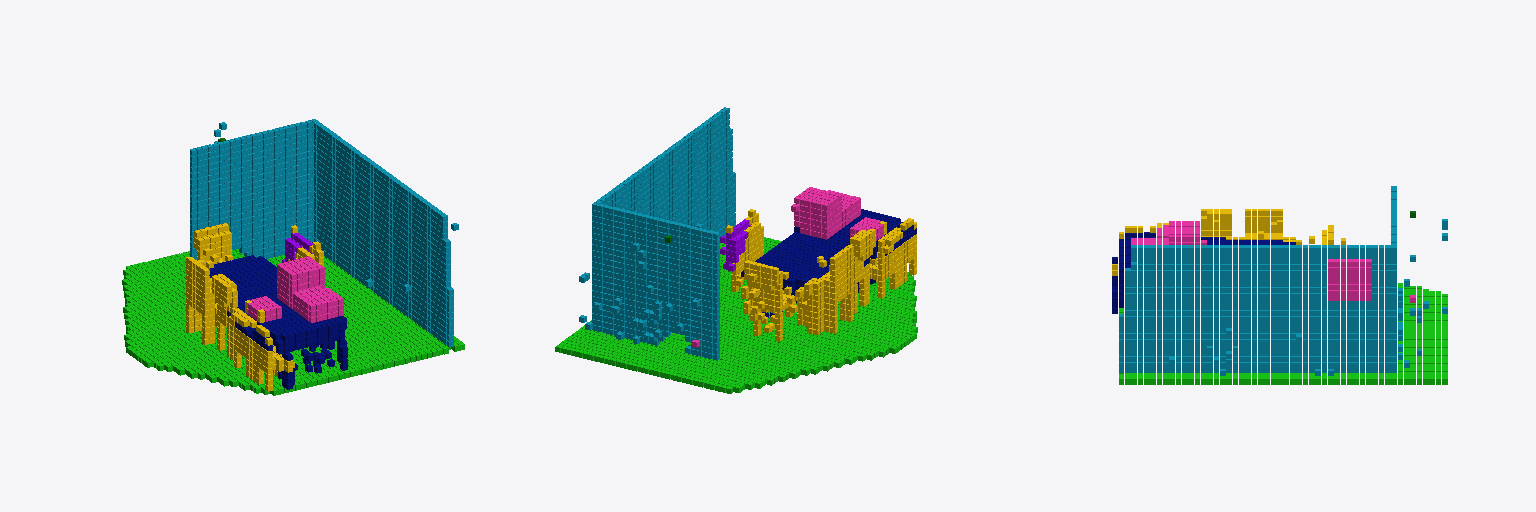
File: ResUNet_NYUCAD_k3_depth_f3_pred_NYU1385_0000_obj.obj
3 views of the same model, side by side, from view 1: azimuth 30°, elevation 25°; view 2: azimuth 150°, elevation 25°; view 3: azimuth 270°, elevation 25° (orthographic).
Parts seen in each view (by area): view 1: Cube; view 2: Cube; view 3: Cube.
Boxes of the visible parts, x1,y1,x2,y2 form: Cube: [122, 119, 464, 395]; Cube: [555, 107, 917, 393]; Cube: [1112, 186, 1447, 384].
Size of the model in its own units: 3.75 by 1.83 by 4.23.